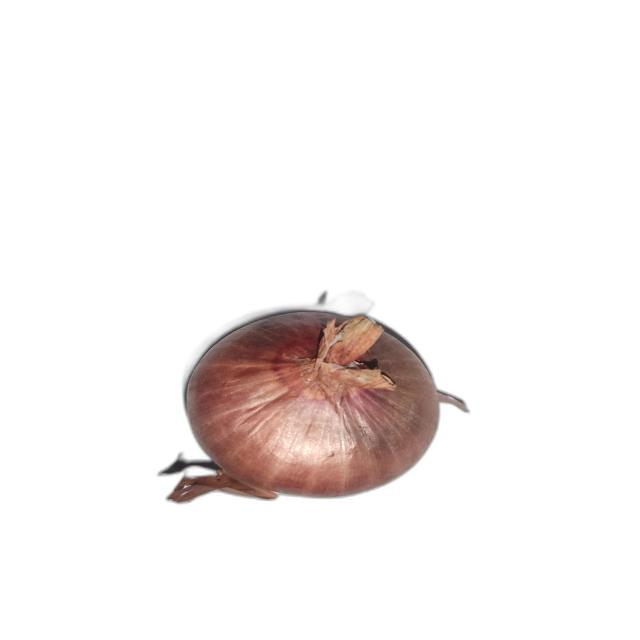onion: (167, 311, 470, 504)
